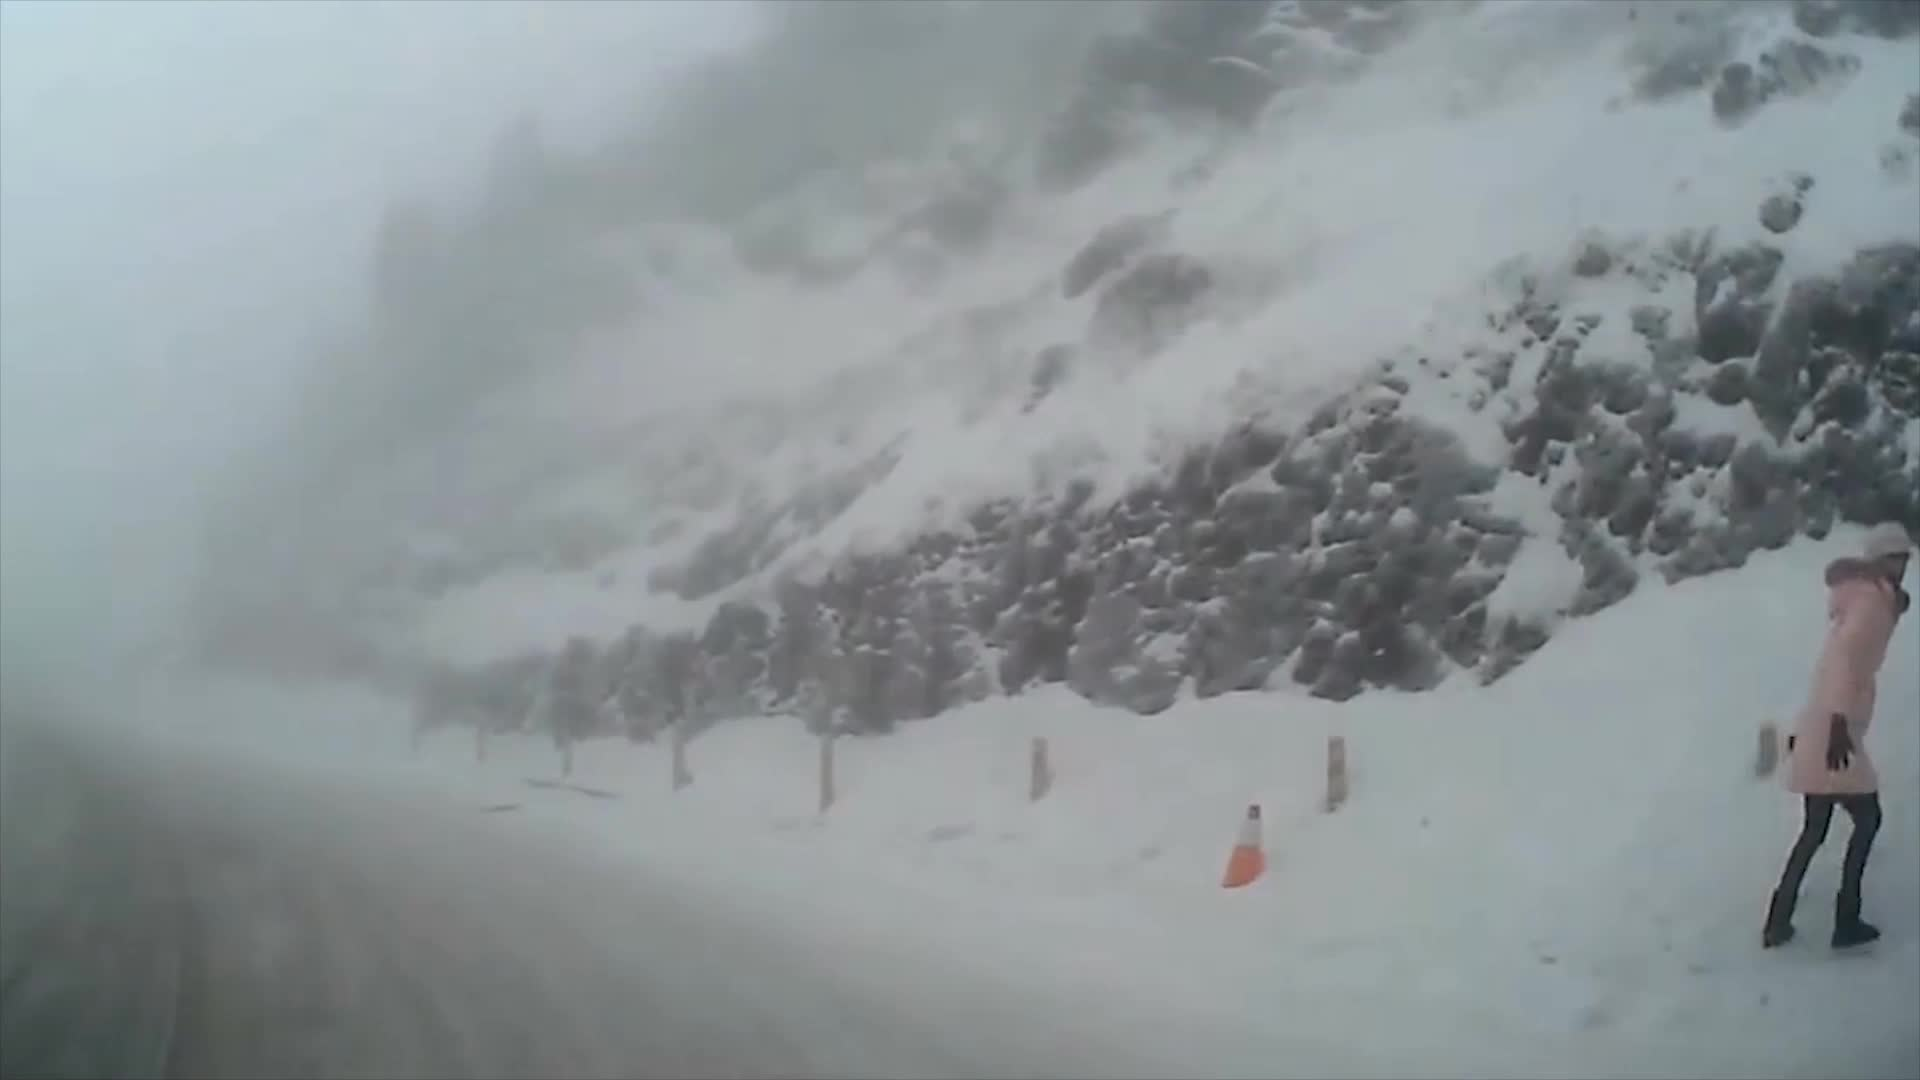pedestrian: (1763, 520, 1914, 949)
